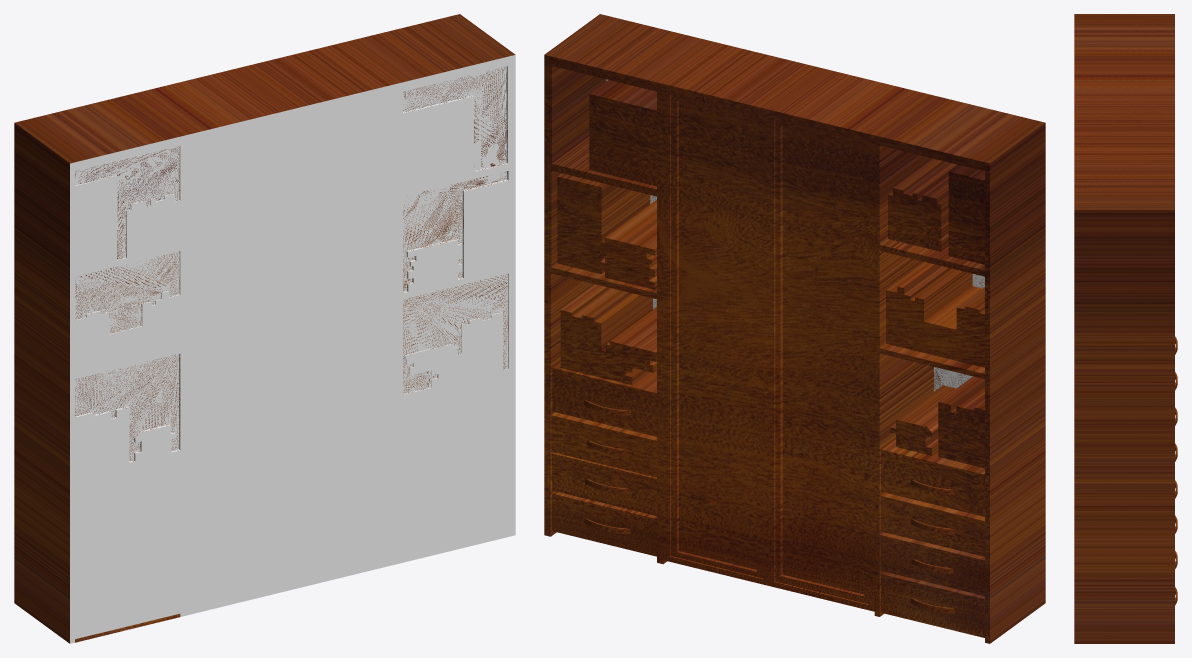
3 renders of one model, left to right at view 1: azimuth 30°, elevation 25°; view 2: azimuth 150°, elevation 25°; view 3: azimuth 270°, elevation 25°, orthographic. The views are drawn at different scales.
Visible parts, largest first — view 1: mesh1_mesh1-geometry; view 2: mesh1_mesh1-geometry; view 3: mesh1_mesh1-geometry.
Boxes of the visible parts, x1,y1,x2,y2 form: mesh1_mesh1-geometry: (14,14,515,643); mesh1_mesh1-geometry: (544,14,1045,643); mesh1_mesh1-geometry: (1074,14,1177,643).
Bounding box in the file's own units: 0.6882 × 0.7091 × 0.1532.
